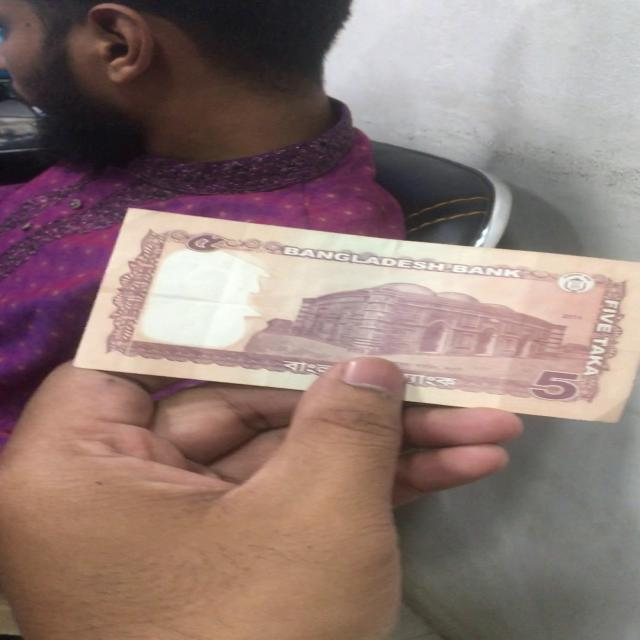Taka: (88, 206, 616, 425)
